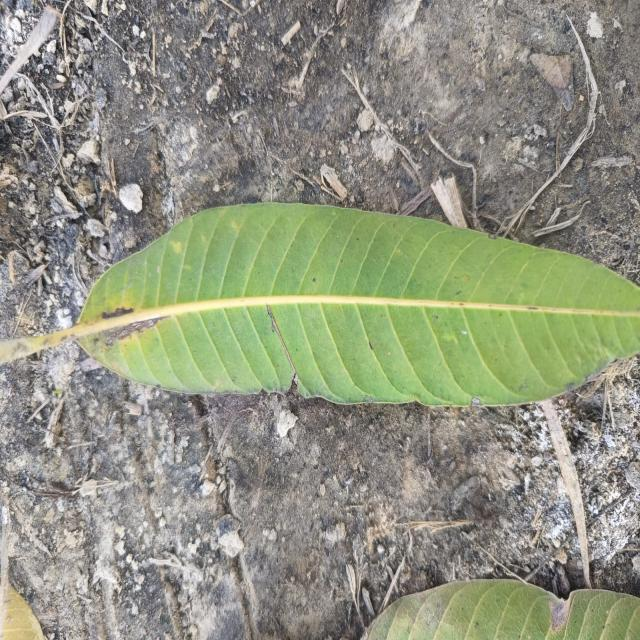Anthracnose: (92, 309, 156, 348)
